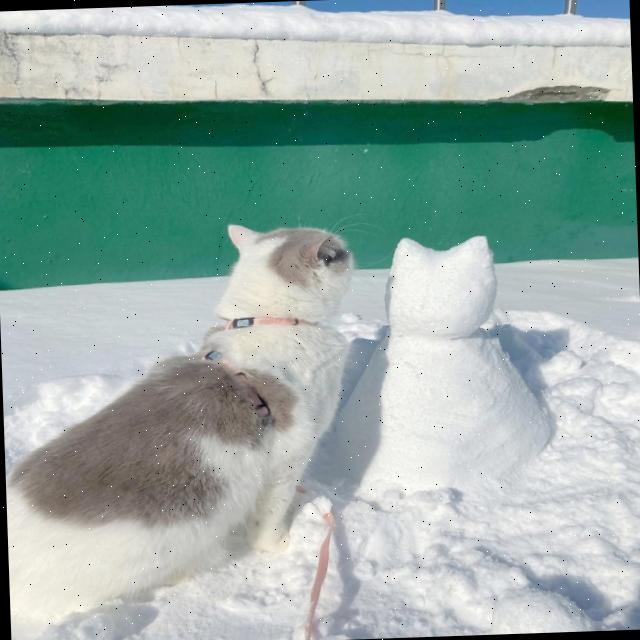cat: (12, 220, 367, 616)
